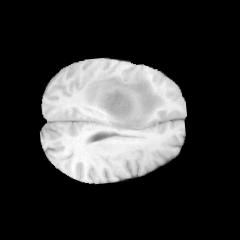glioma: (84, 75, 166, 131)
